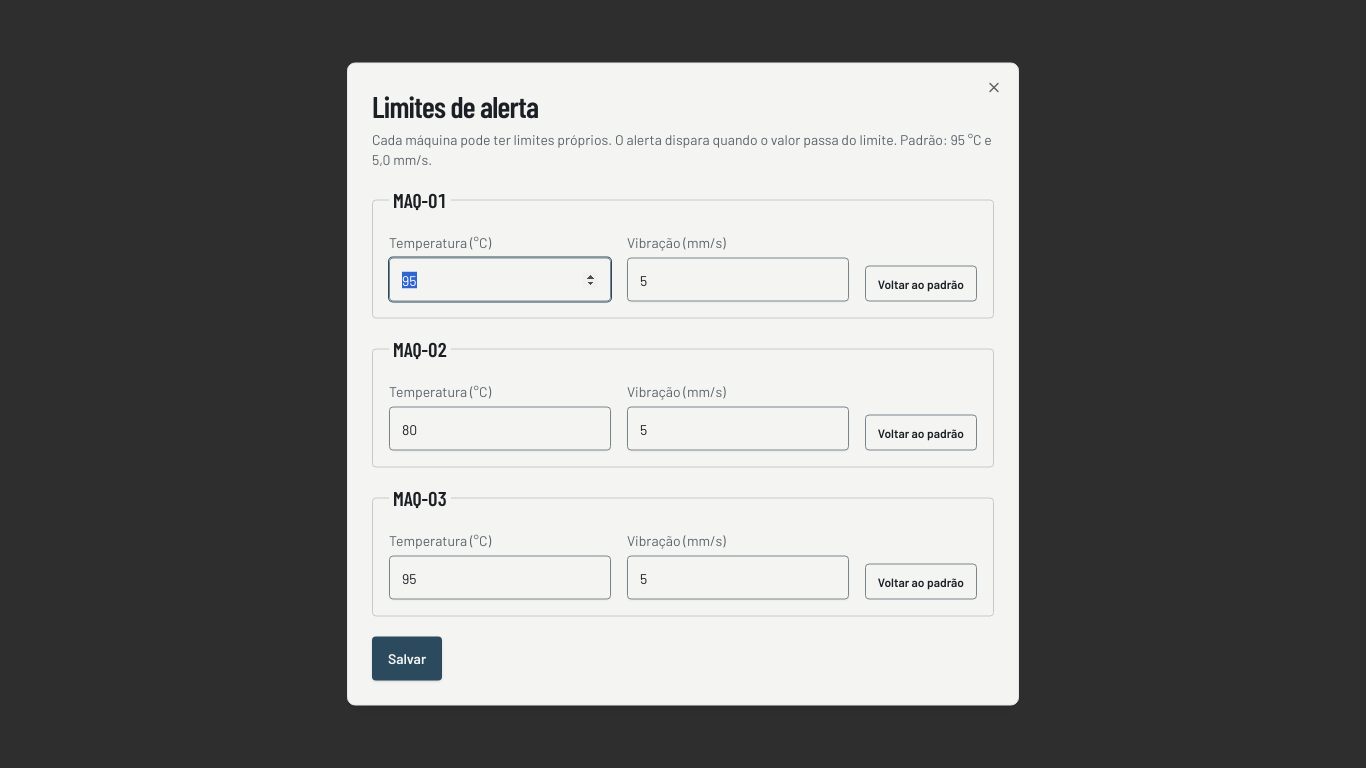
LimitesDeAlerta › salva só o que mudou, com PUT para a máquina certa
Replace the text in the number field labelled "Temperatura (°C)" below "MAQ-03" with "90" at [500, 578], box [389, 556, 611, 600]
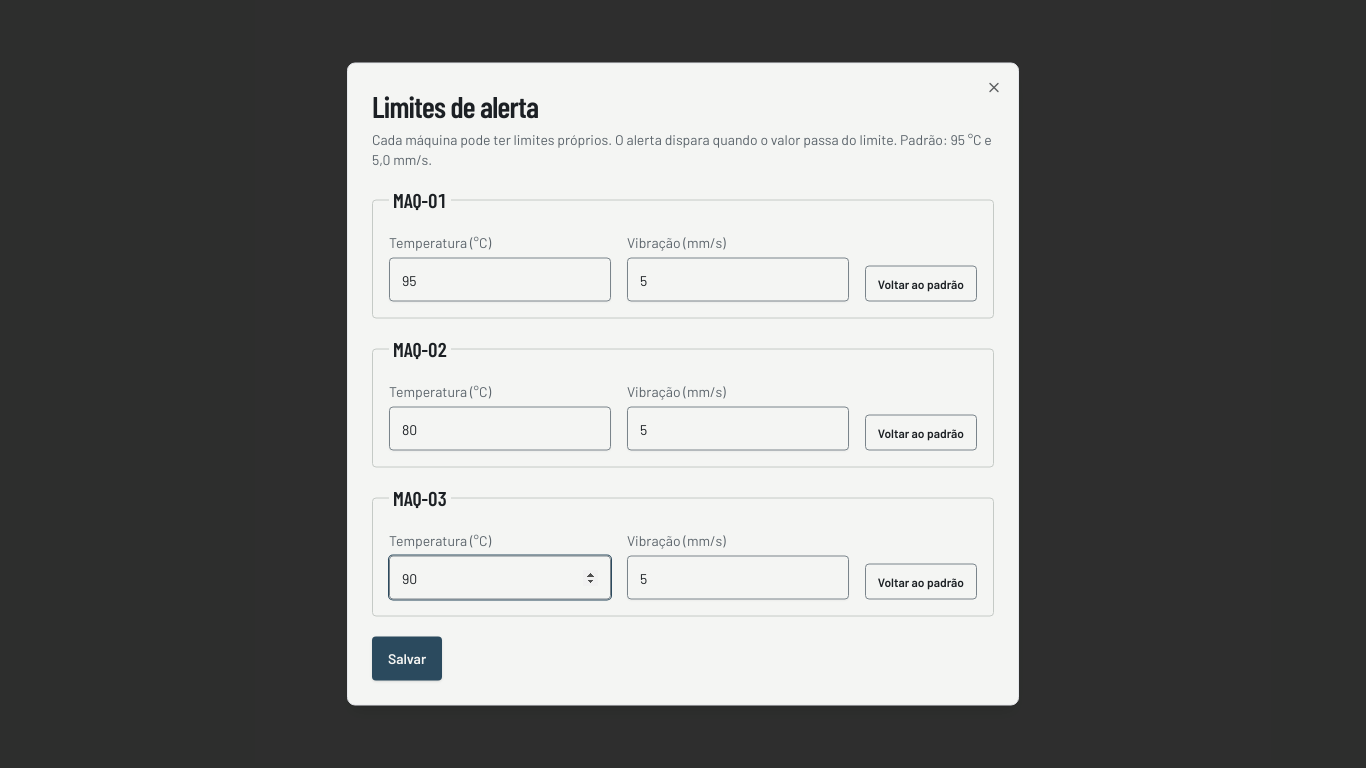
Click the button "Salvar" at [407, 658], box [372, 636, 442, 680]
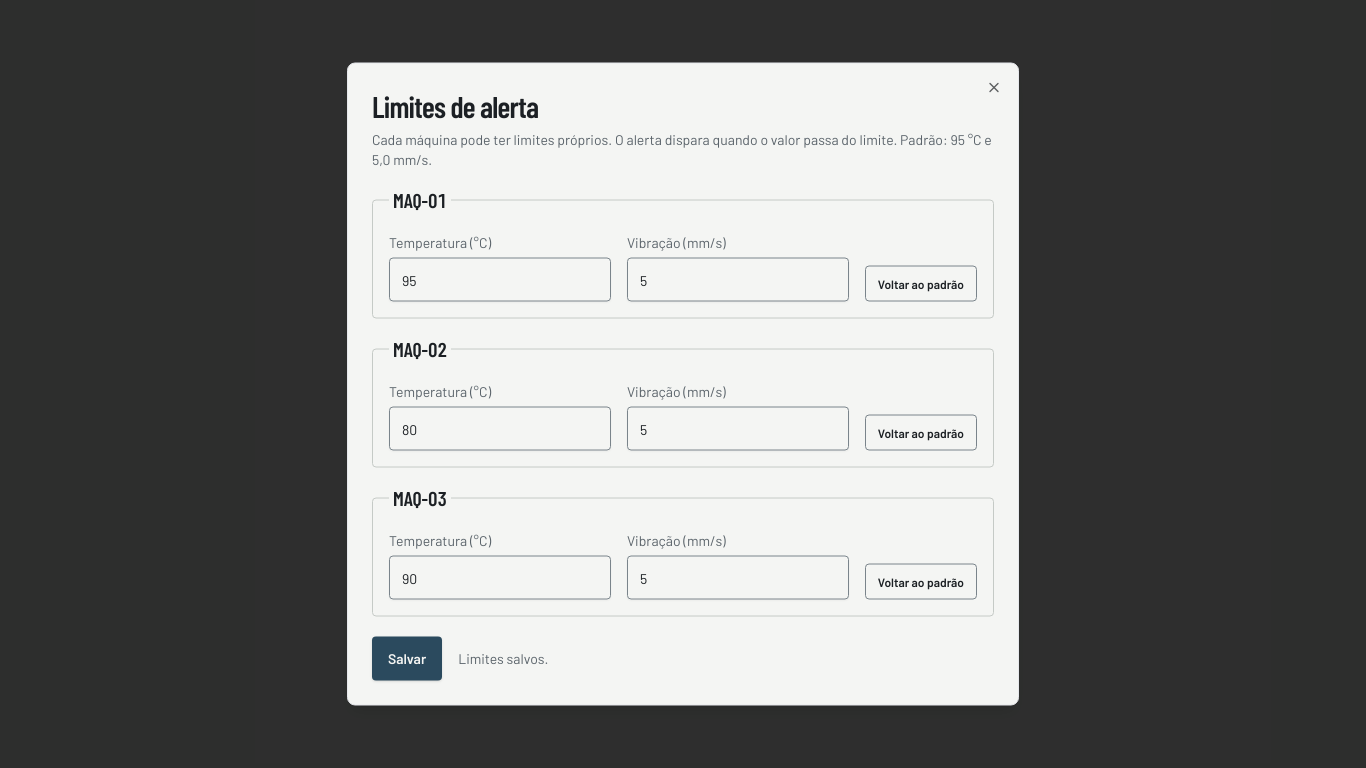
Check: the message reads "Limites salvos.", box [458, 650, 548, 666]
